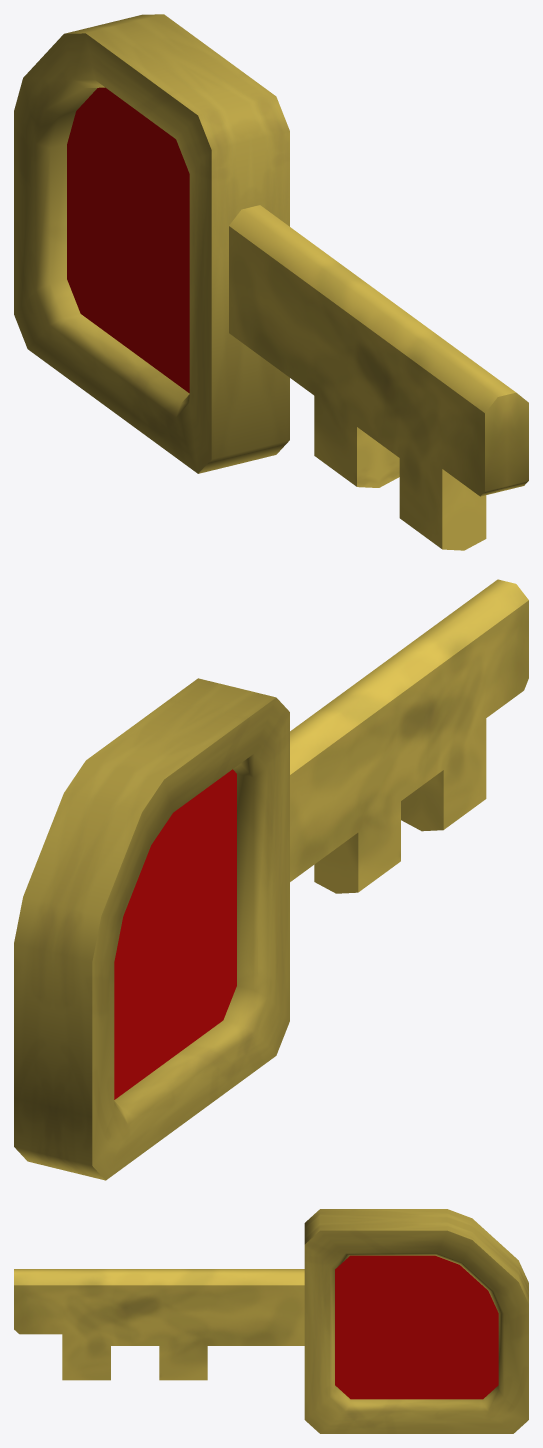
Rendered from Key.fbx.
3 renders of one model, top to bottom at view 1: azimuth 30°, elevation 25°; view 2: azimuth 150°, elevation 25°; view 3: azimuth 270°, elevation 25°, orthographic. The views are drawn at different scales.
Visible parts, largest first — view 1: Key; view 2: Key; view 3: Key.
Boxes of the visible parts, x1,y1,x2,y2 form: Key: (14, 14, 528, 550); Key: (14, 579, 528, 1180); Key: (14, 1209, 528, 1433).
Bounding box in the file's own units: 2.29 × 10 × 22.96.
Materials: 2 (1 with a texture image).
